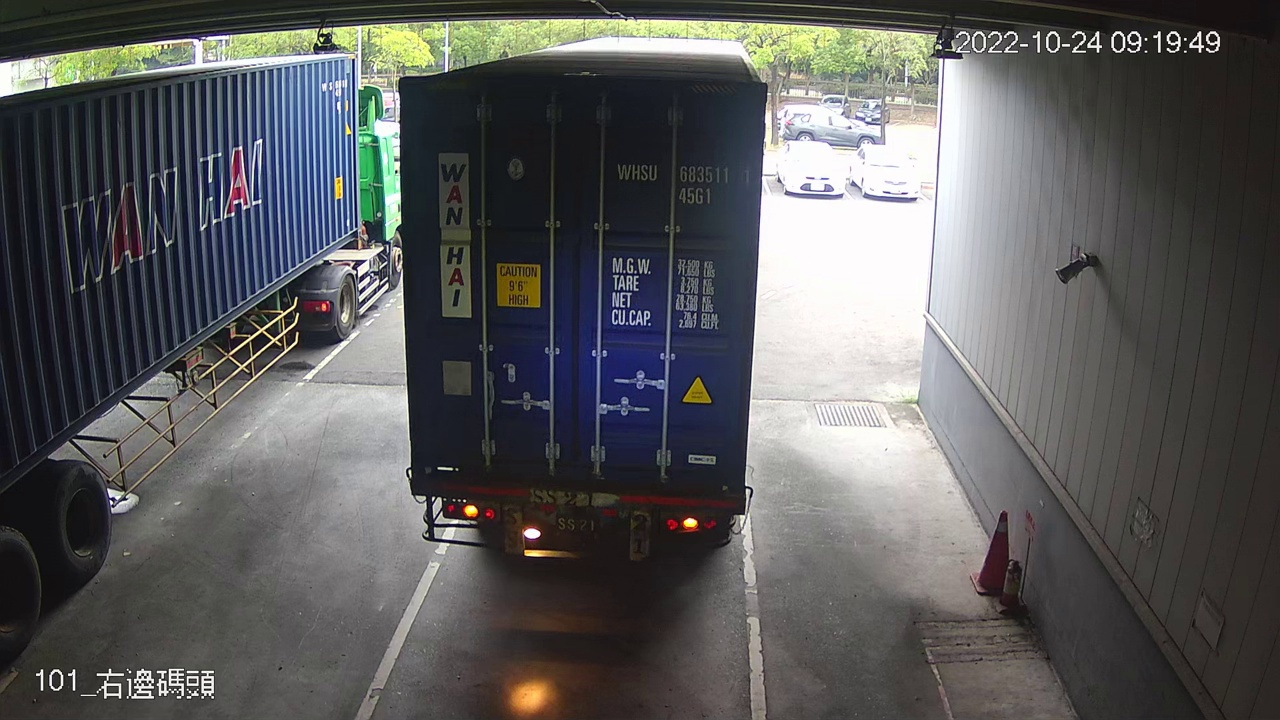container: (611, 156, 754, 206)
